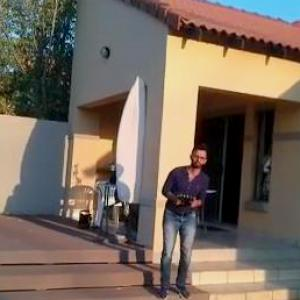follow: (154, 138, 210, 299)
